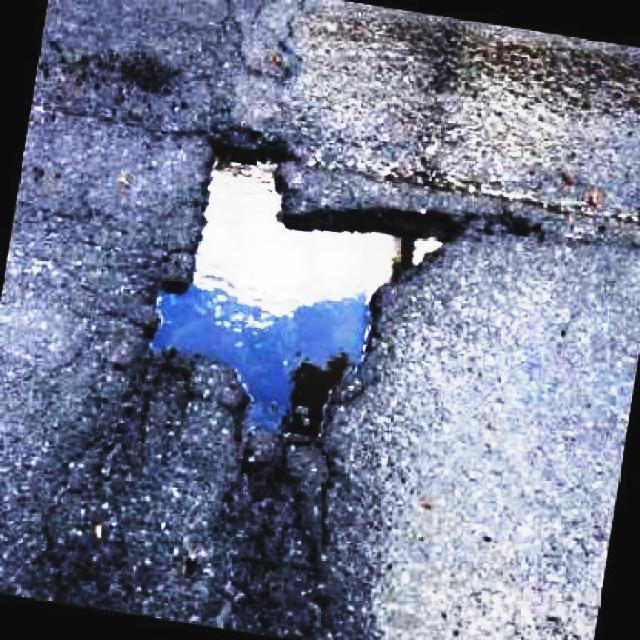pothole: (151, 115, 472, 497)
